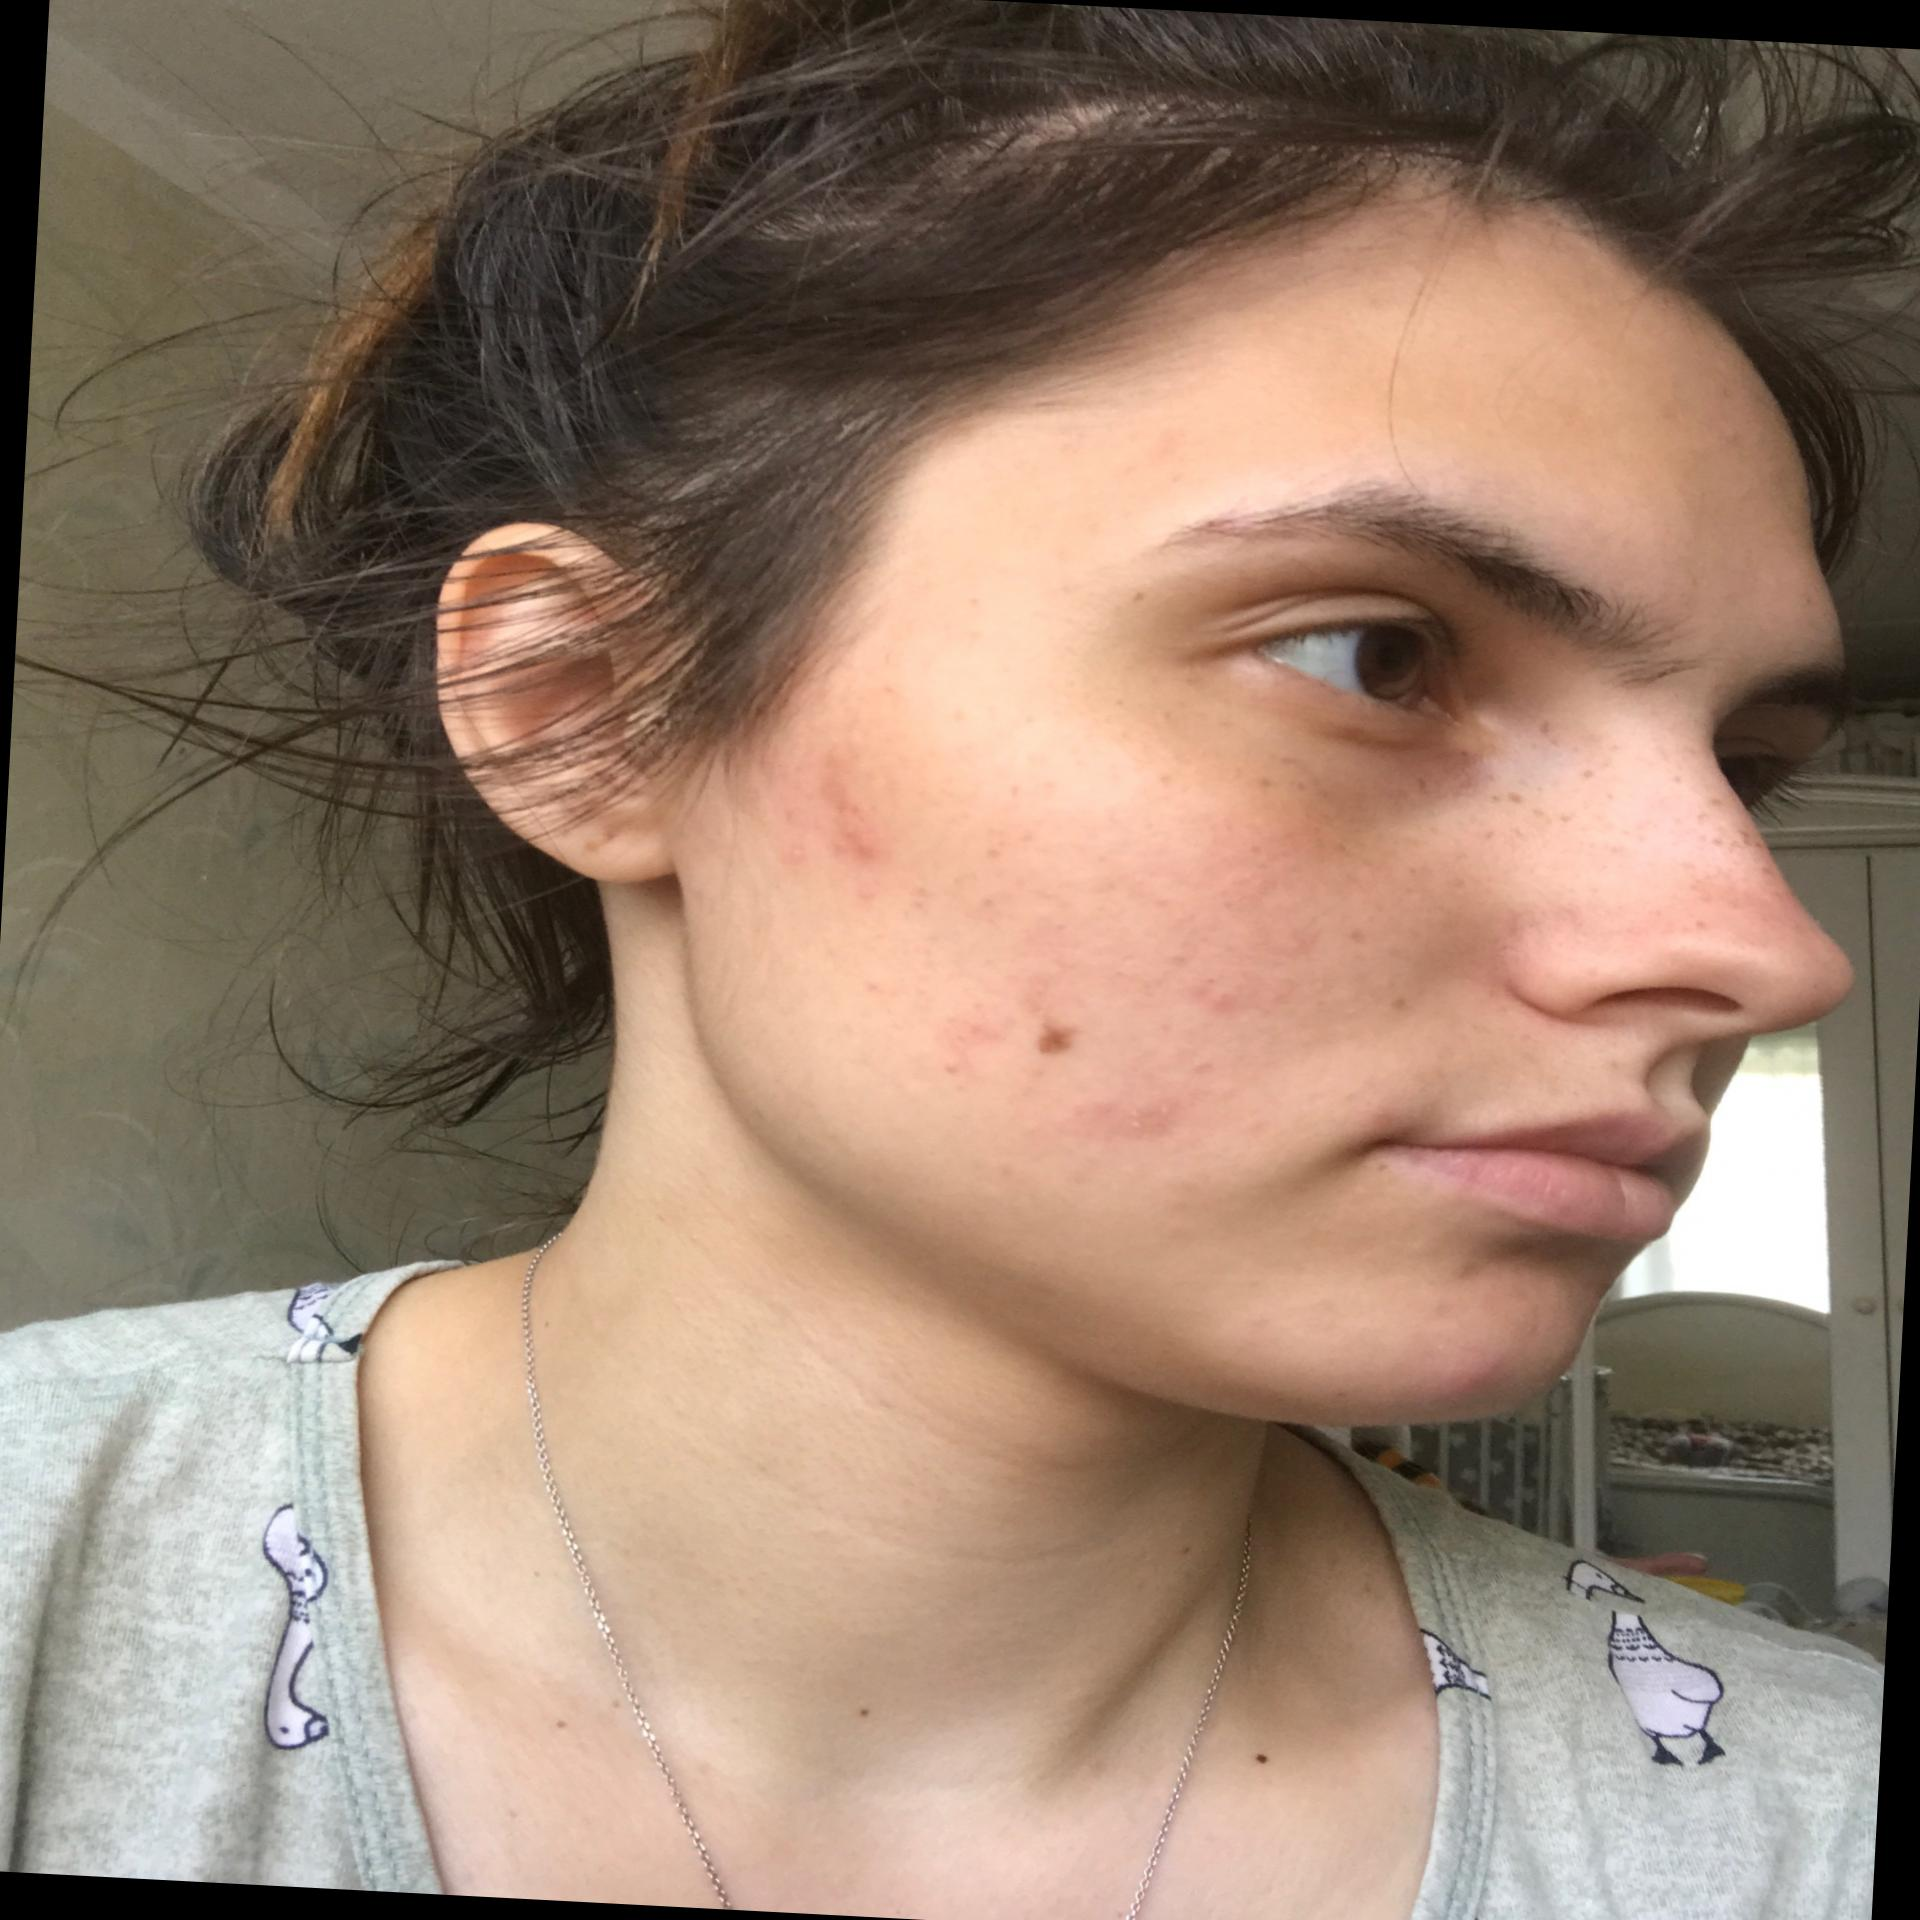Acne: (805, 745, 902, 865), (1064, 1090, 1180, 1139), (935, 1011, 1013, 1071), (1424, 1357, 1510, 1405), (1203, 974, 1248, 1020), (775, 835, 814, 870)
